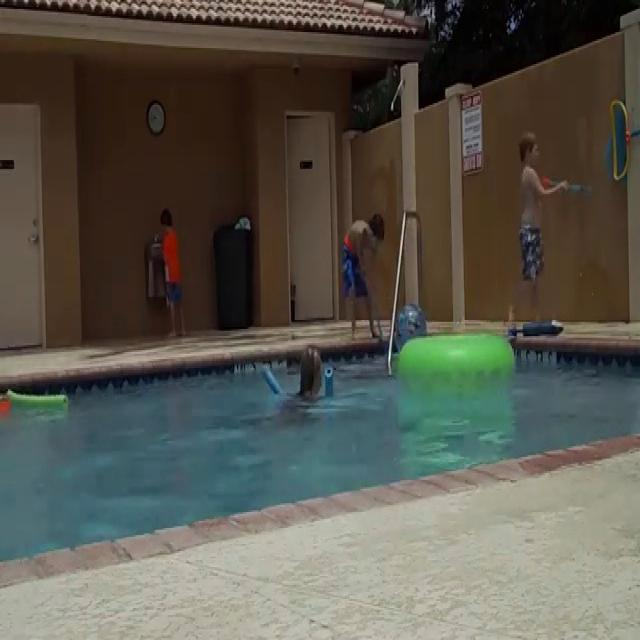adult: (279, 344, 328, 414)
child: (506, 128, 584, 333), (338, 201, 387, 344), (158, 203, 182, 339)
